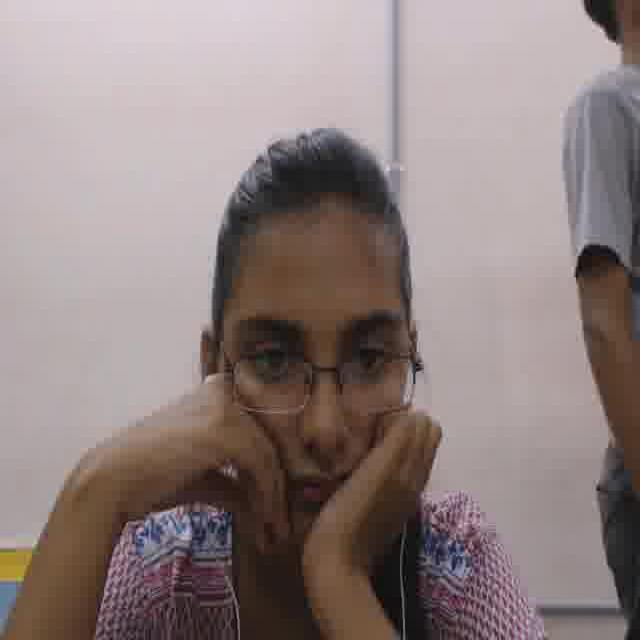Frustration: (216, 206, 406, 554)
